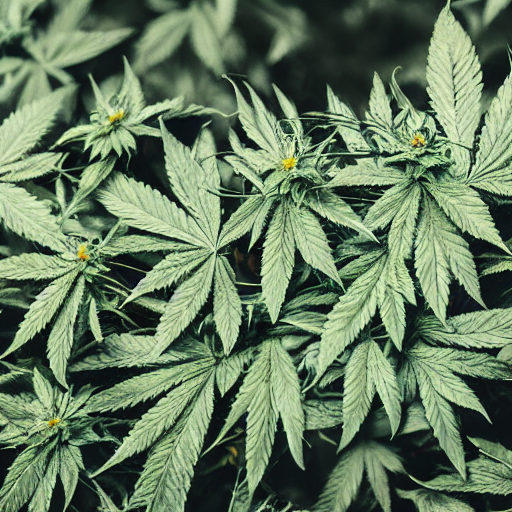Marijuana Joint: (1, 34, 495, 440)
